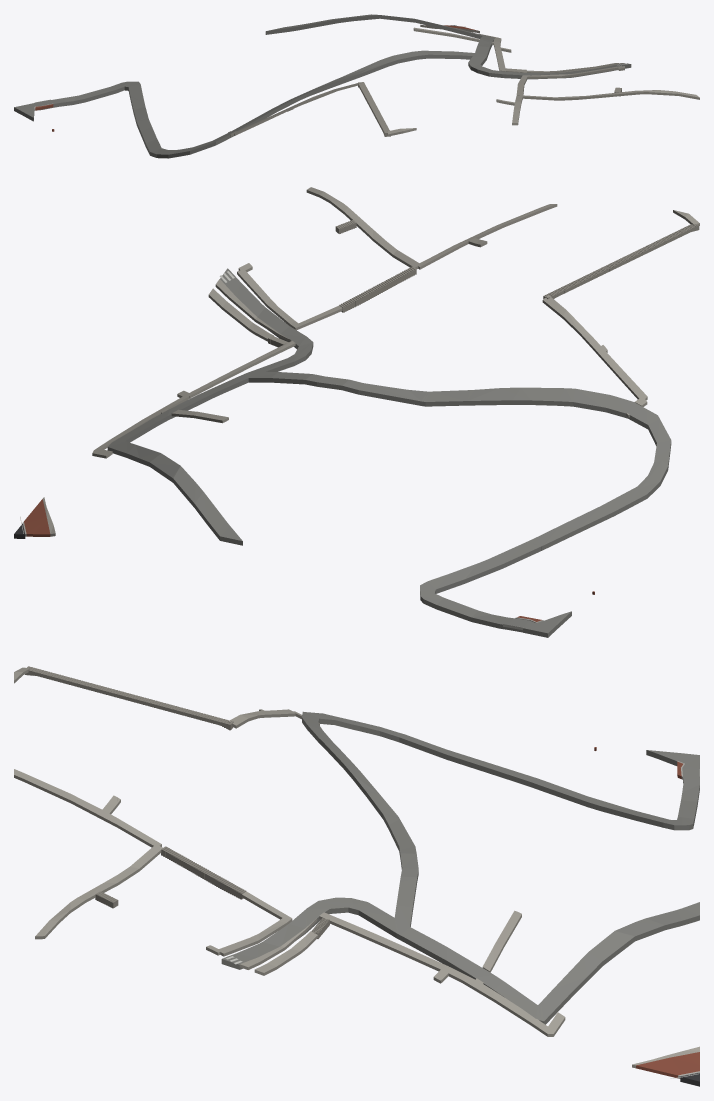
3 renders of one model, top to bottom at view 1: azimuth 30°, elevation 25°; view 2: azimuth 150°, elevation 25°; view 3: azimuth 270°, elevation 25°, orthographic. The views are drawn at different scales.
Bounding box in the file's own units: 149 × 50.03 × 146.
